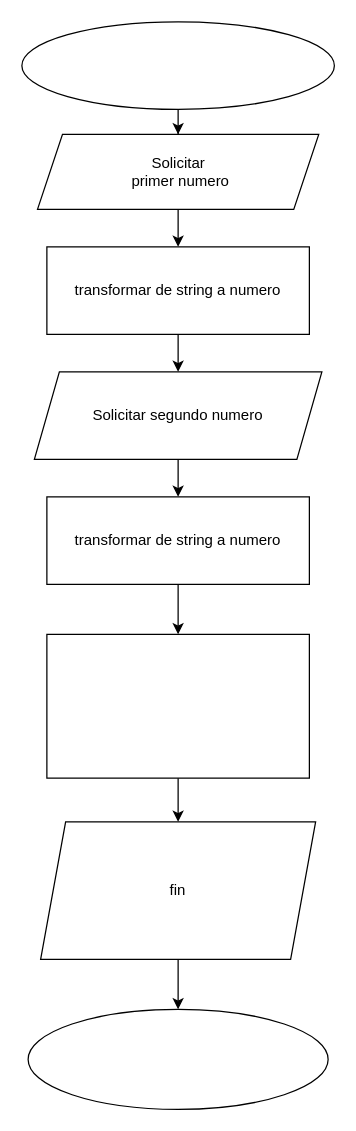
Some shapes in this 356 by 1131 pixel diagram are drawn without their labels. The centre of each missing label's shape, as x and y in pixels:
inicio programa: the point at 177,65
num1 + num2 num1 - num2 num1 * num2 num1 / num2 num1 % num2: the point at 177,705
